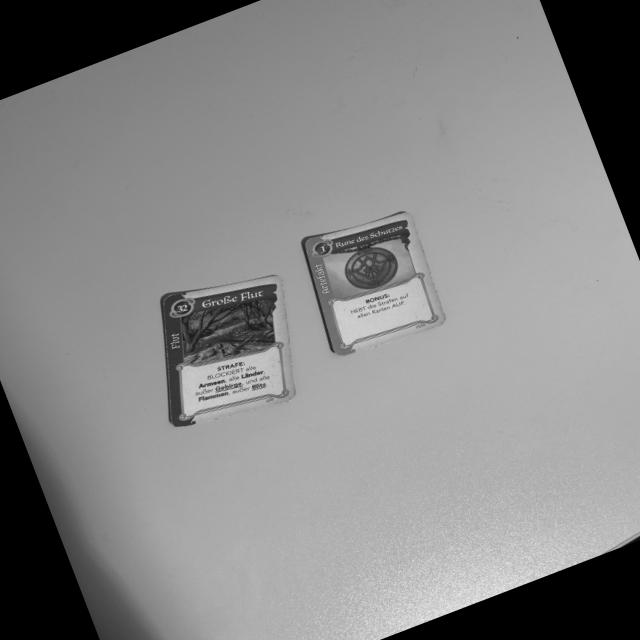Great Flood: (163, 273, 295, 428)
Rune Of Protection: (301, 208, 448, 359)
